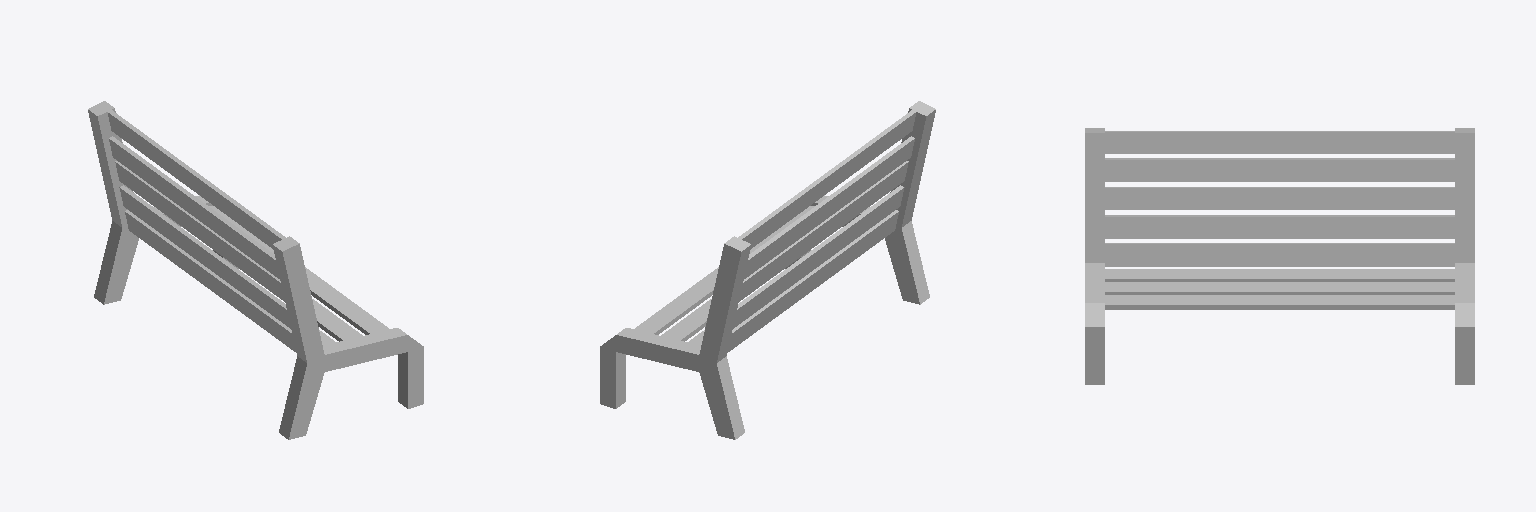
The model's file is bench.obj.
3 views of the same model, side by side, from view 1: azimuth 30°, elevation 25°; view 2: azimuth 150°, elevation 25°; view 3: azimuth 270°, elevation 25° (orthographic).
Visible parts, largest first — view 1: Cube, Cube.001, Cube.008, Cube.006, Cube.009, Cube.005, Cube.007, Cube.002, Cube.003; view 2: Cube.001, Cube, Cube.008, Cube.006, Cube.009, Cube.005, Cube.007, Cube.002, Cube.003; view 3: Cube.009, Cube.006, Cube.005, Cube.008, Cube.007, Cube.002, Cube.001, Cube, Cube.004, Cube.003.
Boxes of the visible parts, <box> form: Cube: <box>272,236,423,439</box>; Cube.001: <box>88,101,238,304</box>; Cube.008: <box>108,110,285,249</box>; Cube.006: <box>119,185,290,328</box>; Cube.009: <box>109,136,279,278</box>; Cube.005: <box>125,210,295,351</box>; Cube.007: <box>115,161,284,301</box>; Cube.002: <box>209,206,388,334</box>; Cube.003: <box>312,299,362,341</box>; Cube.001: <box>600,236,751,439</box>; Cube: <box>785,101,935,304</box>; Cube.008: <box>738,110,915,249</box>; Cube.006: <box>733,185,904,328</box>; Cube.009: <box>744,136,914,278</box>; Cube.005: <box>728,210,898,351</box>; Cube.007: <box>739,161,908,301</box>; Cube.002: <box>635,206,814,334</box>; Cube.003: <box>661,299,711,341</box>; Cube.009: <box>1105,158,1454,181</box>; Cube.006: <box>1105,215,1454,238</box>; Cube.005: <box>1105,243,1454,266</box>; Cube.008: <box>1105,131,1454,153</box>; Cube.007: <box>1105,187,1454,209</box>; Cube.002: <box>1105,295,1454,309</box>; Cube.001: <box>1455,128,1474,384</box>; Cube: <box>1085,128,1104,384</box>; Cube.004: <box>1105,269,1454,281</box>; Cube.003: <box>1105,282,1454,294</box>.
Bounding box in the file's own units: 6.21 × 8.1 × 14.76.